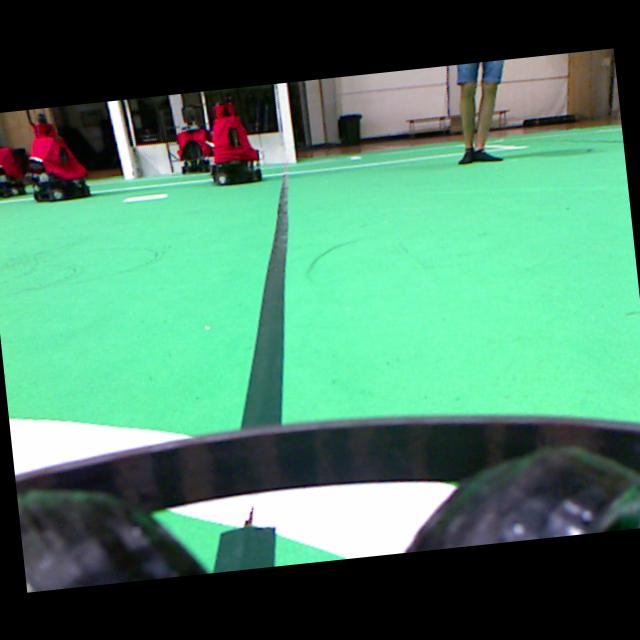goal: (107, 100, 134, 179), (274, 82, 295, 162)
